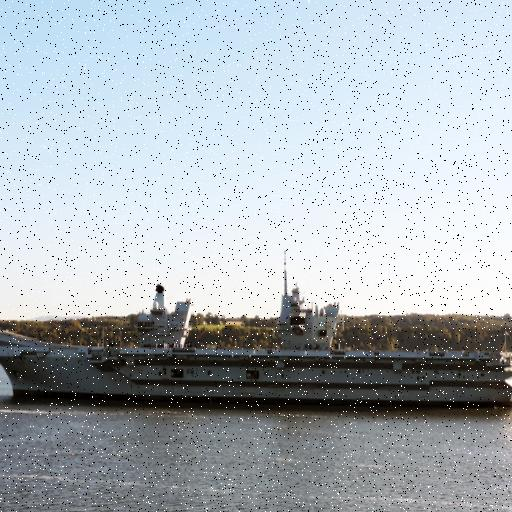Portanaves: (1, 251, 512, 417)
